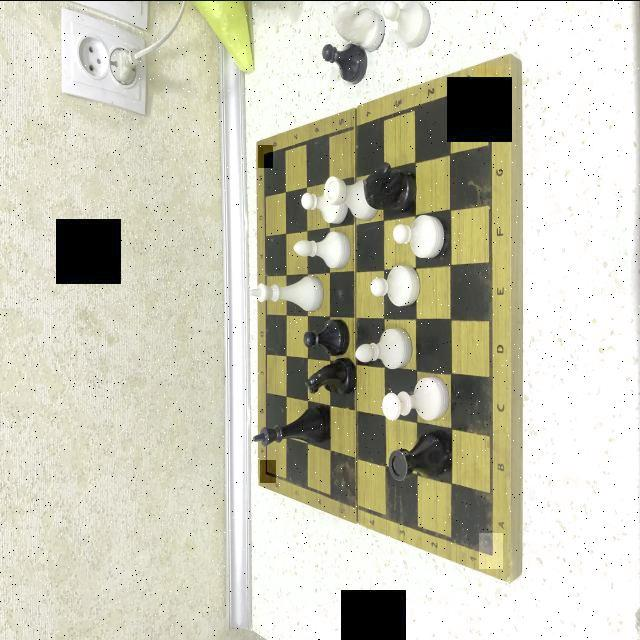chess-table-corners: (476, 65, 502, 104), (479, 532, 503, 568), (260, 459, 276, 482), (258, 144, 273, 167)
